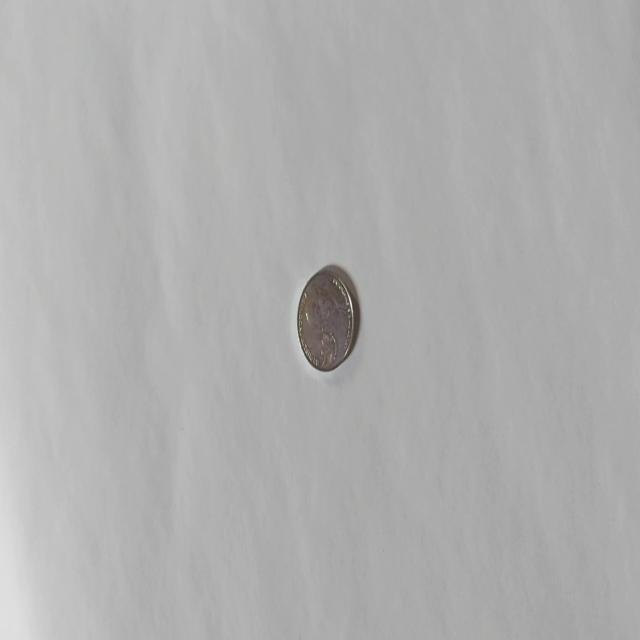lima ratus rupiah: (296, 264, 354, 372)
